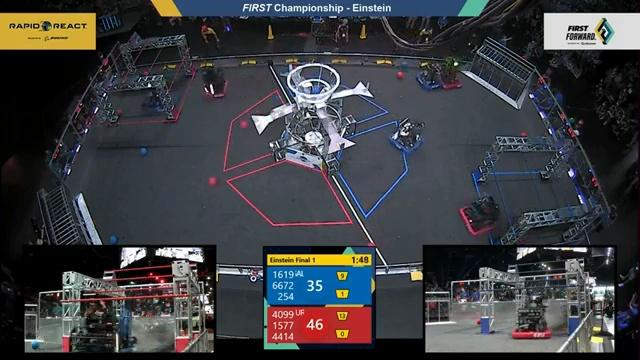robot: (457, 193, 501, 238), (388, 114, 427, 155), (142, 81, 179, 117), (198, 62, 228, 103), (412, 57, 443, 93), (439, 56, 464, 91)
